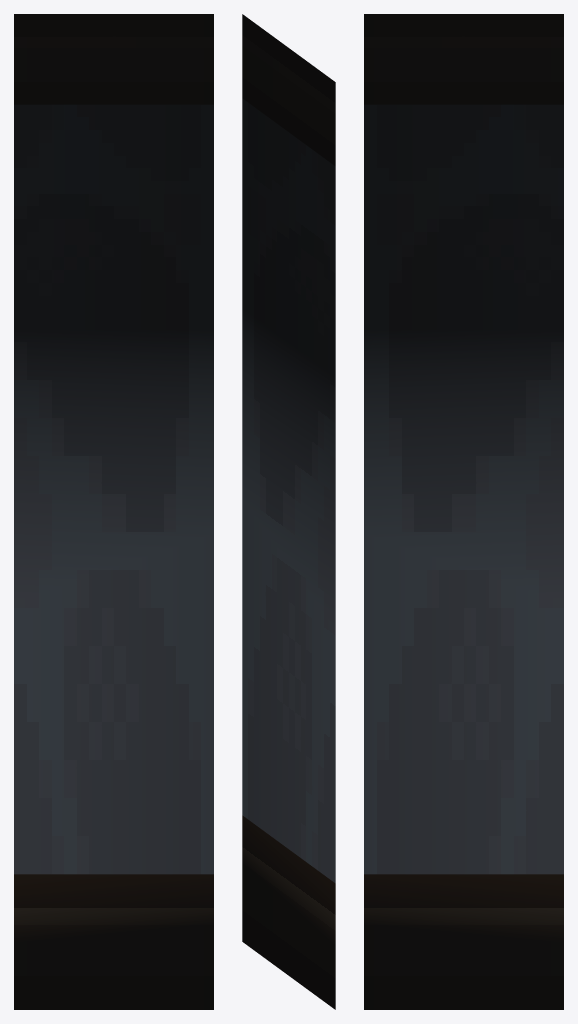
3 renders of one model, left to right at view 1: azimuth 90°, elevation 25°; view 2: azimuth 210°, elevation 25°; view 3: azimuth 270°, elevation 25°, orthographic. The views are drawn at different scales.
Bounding box in the file's own units: 0 × 5.5 × 1.
Materials: 2 (2 with a texture image).
